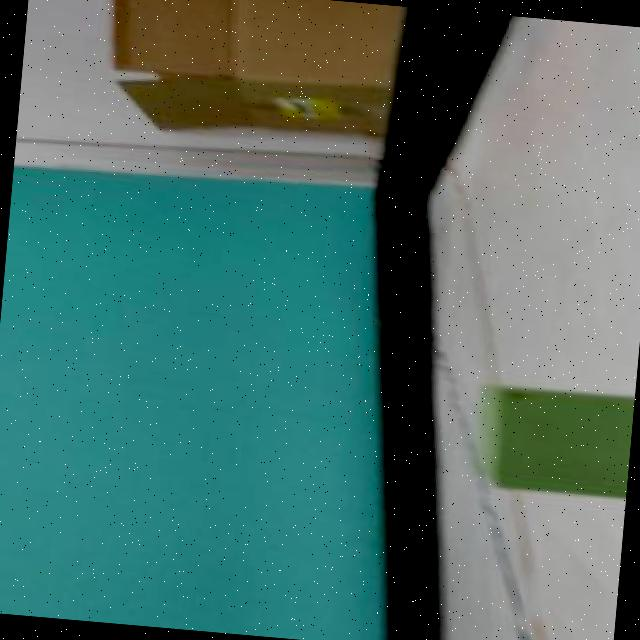greenbox: (470, 383, 634, 498)
